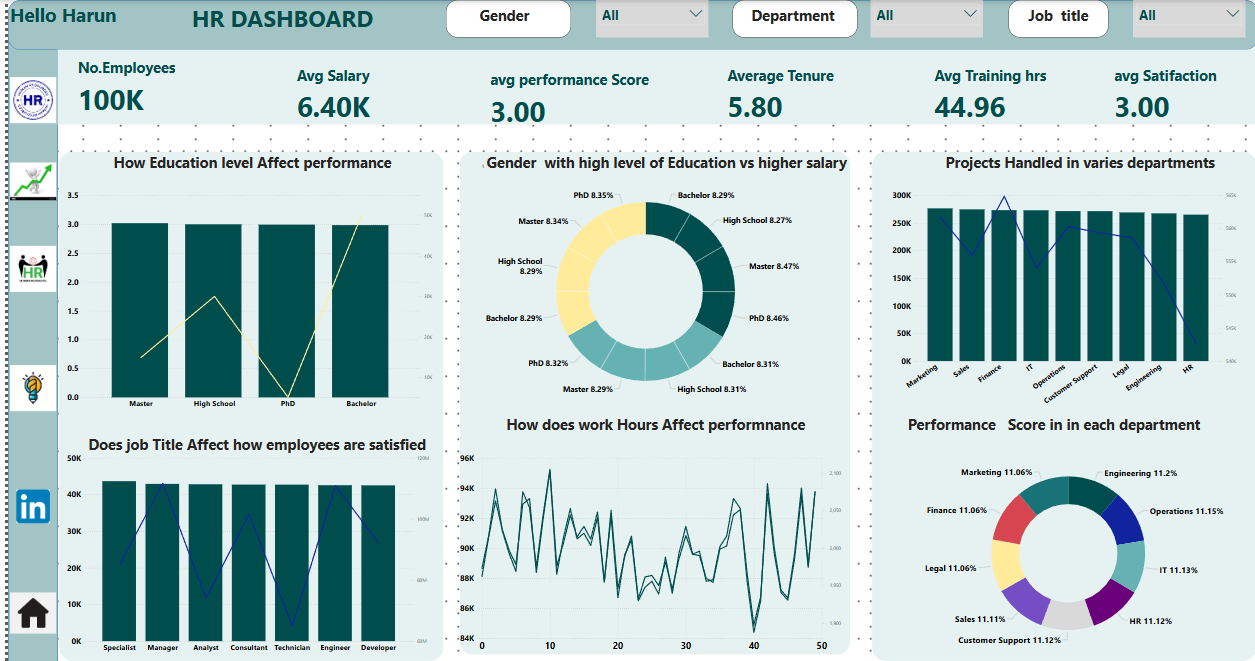

The page's visual inventory and layout, read from the dashboard file:
{"tool":"powerbi","page":{"name":"Page 1","canvas":[3200,1700],"ordinal":0},"visuals":[{"type":"shape","box":[0,96,128,1600],"z":0},{"type":"shape","box":[0,0,3200,128],"z":1000},{"type":"shape","box":[128,128,3072,192],"z":2000},{"type":"shape","box":[128,384,992,1312],"z":3000},{"type":"shape","box":[1152,384,1008,1296],"z":4000},{"type":"shape","box":[2208,384,992,1312],"z":5000},{"type":"lineStackedColumnComboChart","fields":{"Category":["HR Data.Education_Level"],"Y":["kpis needed.avg performance Score"],"Y2":["CountNonNull(HR Data.Gender)"]},"box":[144,480,960,576],"z":6000},{"type":"lineClusteredColumnComboChart","fields":{"Y2":["Sum(HR Data.Monthly_Salary)"],"Y":["Sum(HR Data.Employee_Satisfaction_Score)"],"Category":["HR Data.Job_Title"]},"box":[144,1152,960,528],"z":7000},{"type":"donutChart","fields":{"Category":["HR Data.Gender"],"Y":["kpis needed.Avg Salary"],"Series":["HR Data.Education_Level"]},"box":[1152,432,960,624],"z":8000},{"type":"lineChart","fields":{"Y":["Sum(HR Data.Work_Hours_Per_Week)"],"Category":["HR Data.Projects_Handled"],"Y2":["CountNonNull(HR Data.Employee_ID)"]},"box":[1152,1152,1008,528],"z":9000},{"type":"lineClusteredColumnComboChart","fields":{"Y":["kpis needed.Total project"],"Category":["HR Data.Department"],"Y2":["Sum(HR Data.Remote_Work_Frequency)"]},"box":[2256,480,912,576],"z":10000},{"type":"pieChart","fields":{"Category":["HR Data.Department"],"Y":["kpis needed.avg performance Score"]},"box":[2256,1152,912,528],"z":11000},{"type":"textbox","box":[144,384,960,144],"z":12000},{"type":"textbox","box":[192,1104,912,96],"z":13000},{"type":"textbox","box":[1200,384,960,96],"z":14000},{"type":"textbox","box":[1200,1056,912,96],"z":15000},{"type":"textbox","box":[2288,384,912,96],"z":16000},{"type":"textbox","box":[2208,1056,960,96],"z":17000},{"type":"cardVisual","fields":{"Data":["kpis needed.No.Employees"]},"box":[160,128,448,192],"z":18000},{"type":"cardVisual","fields":{"Data":["kpis needed.Avg Salary"]},"box":[720,144,432,192],"z":19000},{"type":"cardVisual","fields":{"Data":["kpis needed.avg performance Score"]},"box":[1216,160,480,160],"z":20000},{"type":"cardVisual","fields":{"Data":["kpis needed.Average Tenure"]},"box":[1824,144,384,192],"z":21000},{"type":"cardVisual","fields":{"Data":["kpis needed.Avg Training hrs"]},"box":[2352,144,384,192],"z":22000},{"type":"cardVisual","fields":{"Data":["kpis needed.avg Satifaction"]},"box":[2816,144,384,192],"z":23000},{"type":"slicer","fields":{"Values":["HR Data.Gender"]},"box":[1504,0,288,96],"z":24000},{"type":"textbox","box":[1120,0,320,96],"z":25000},{"type":"textbox","box":[1856,0,320,96],"z":26000},{"type":"slicer","fields":{"Values":["HR Data.Department"]},"box":[2208,0,288,96],"z":27000},{"type":"slicer","fields":{"Values":["HR Data.Department"]},"box":[2880,0,288,96],"z":28000},{"type":"textbox","box":[2560,0,256,96],"z":29000},{"type":"textbox","box":[416,0,608,96],"z":30000},{"type":"textbox","box":[0,0,320,128],"z":31000},{"type":"image","box":[0,576,128,224],"z":32000},{"type":"image","box":[0,192,128,128],"z":33000},{"type":"image","box":[0,1504,128,128],"z":34000},{"type":"image","box":[0,928,128,128],"z":35000},{"type":"image","box":[0,384,128,160],"z":36000},{"type":"image","box":[0,1248,128,96],"z":37000}]}

Visuals, with their boxes in screenshot pixels (x1, y1, x2, y2), scaled from the page's 3200x1700 canvas onto the 1255x661 screenshot:
shape: left=0, top=37, right=50, bottom=659
shape: left=0, top=0, right=1254, bottom=50
shape: left=50, top=50, right=1254, bottom=124
shape: left=50, top=149, right=439, bottom=659
shape: left=452, top=149, right=847, bottom=653
shape: left=866, top=149, right=1254, bottom=659
lineStackedColumnComboChart - HR Data.Education_Level x kpis needed.avg performance Score: left=56, top=187, right=433, bottom=411
lineClusteredColumnComboChart - Sum(HR Data.Monthly_Salary) x Sum(HR Data.Employee_Satisfaction_Score): left=56, top=448, right=433, bottom=653
donutChart - HR Data.Gender x kpis needed.Avg Salary: left=452, top=168, right=828, bottom=411
lineChart - Sum(HR Data.Work_Hours_Per_Week) x HR Data.Projects_Handled: left=452, top=448, right=847, bottom=653
lineClusteredColumnComboChart - kpis needed.Total project x HR Data.Department: left=885, top=187, right=1242, bottom=411
pieChart - HR Data.Department x kpis needed.avg performance Score: left=885, top=448, right=1242, bottom=653
textbox: left=56, top=149, right=433, bottom=205
textbox: left=75, top=429, right=433, bottom=467
textbox: left=471, top=149, right=847, bottom=187
textbox: left=471, top=411, right=828, bottom=448
textbox: left=897, top=149, right=1254, bottom=187
textbox: left=866, top=411, right=1242, bottom=448
cardVisual - kpis needed.No.Employees: left=63, top=50, right=238, bottom=124
cardVisual - kpis needed.Avg Salary: left=282, top=56, right=452, bottom=131
cardVisual - kpis needed.avg performance Score: left=477, top=62, right=665, bottom=124
cardVisual - kpis needed.Average Tenure: left=715, top=56, right=866, bottom=131
cardVisual - kpis needed.Avg Training hrs: left=922, top=56, right=1073, bottom=131
cardVisual - kpis needed.avg Satifaction: left=1104, top=56, right=1254, bottom=131
slicer - HR Data.Gender: left=590, top=0, right=703, bottom=37
textbox: left=439, top=0, right=565, bottom=37
textbox: left=728, top=0, right=853, bottom=37
slicer - HR Data.Department: left=866, top=0, right=979, bottom=37
slicer - HR Data.Department: left=1130, top=0, right=1242, bottom=37
textbox: left=1004, top=0, right=1104, bottom=37
textbox: left=163, top=0, right=402, bottom=37
textbox: left=0, top=0, right=126, bottom=50
image: left=0, top=224, right=50, bottom=311
image: left=0, top=75, right=50, bottom=124
image: left=0, top=585, right=50, bottom=635
image: left=0, top=361, right=50, bottom=411
image: left=0, top=149, right=50, bottom=212
image: left=0, top=485, right=50, bottom=523
